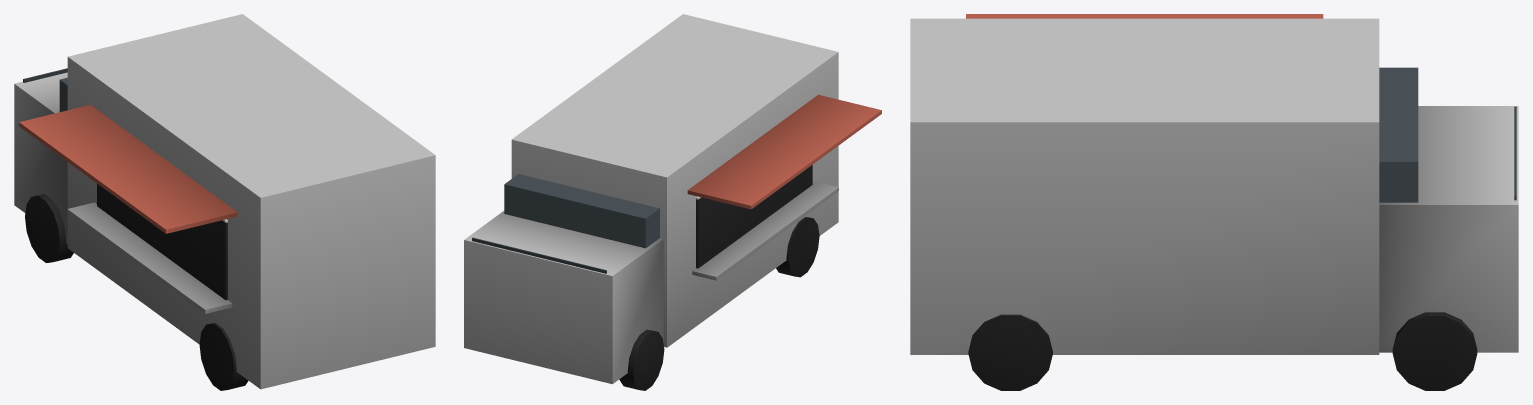
The model's file is imbiss.glb.
3 renders of one model, left to right at view 1: azimuth 30°, elevation 25°; view 2: azimuth 150°, elevation 25°; view 3: azimuth 270°, elevation 25°, orthographic. The views are drawn at different scales.
Visible parts, largest first — view 1: farbe, lack, glas; view 2: farbe, lack, glas; view 3: farbe, lack, glas.
Boxes of the visible parts, x1,y1,x2,y2 form: farbe: (14, 14, 435, 389); lack: (19, 105, 248, 390); glas: (23, 68, 67, 111); farbe: (464, 14, 838, 384); lack: (619, 94, 881, 390); glas: (472, 174, 659, 273); farbe: (910, 18, 1518, 354); lack: (966, 14, 1477, 390); glas: (1379, 67, 1516, 202).
Size of the model in its own units: 3.13 by 2.64 by 5.45.
